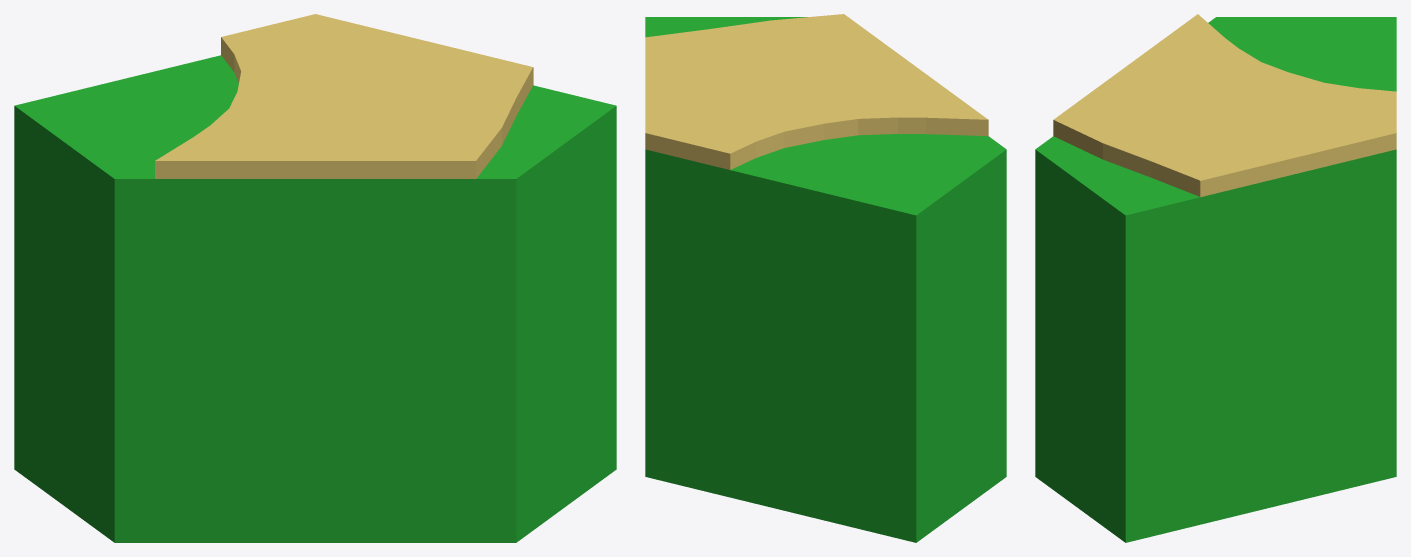
File: module-corner_land_path_y_001.glb
The picture shows the model from 3 angles, left to right: view 1: azimuth 30°, elevation 25°; view 2: azimuth 150°, elevation 25°; view 3: azimuth 270°, elevation 25°; orthographic projection. The views are drawn at different scales.
Parts seen in each view (by area): view 1: module-corner_land_path_y_001; view 2: module-corner_land_path_y_001; view 3: module-corner_land_path_y_001.
Boxes of the visible parts, x1,y1,x2,y2 form: module-corner_land_path_y_001: (14,14,616,542); module-corner_land_path_y_001: (645,14,1006,542); module-corner_land_path_y_001: (1035,14,1396,542).
Bounding box in the file's own units: 0.6495 × 0.525 × 0.5.
